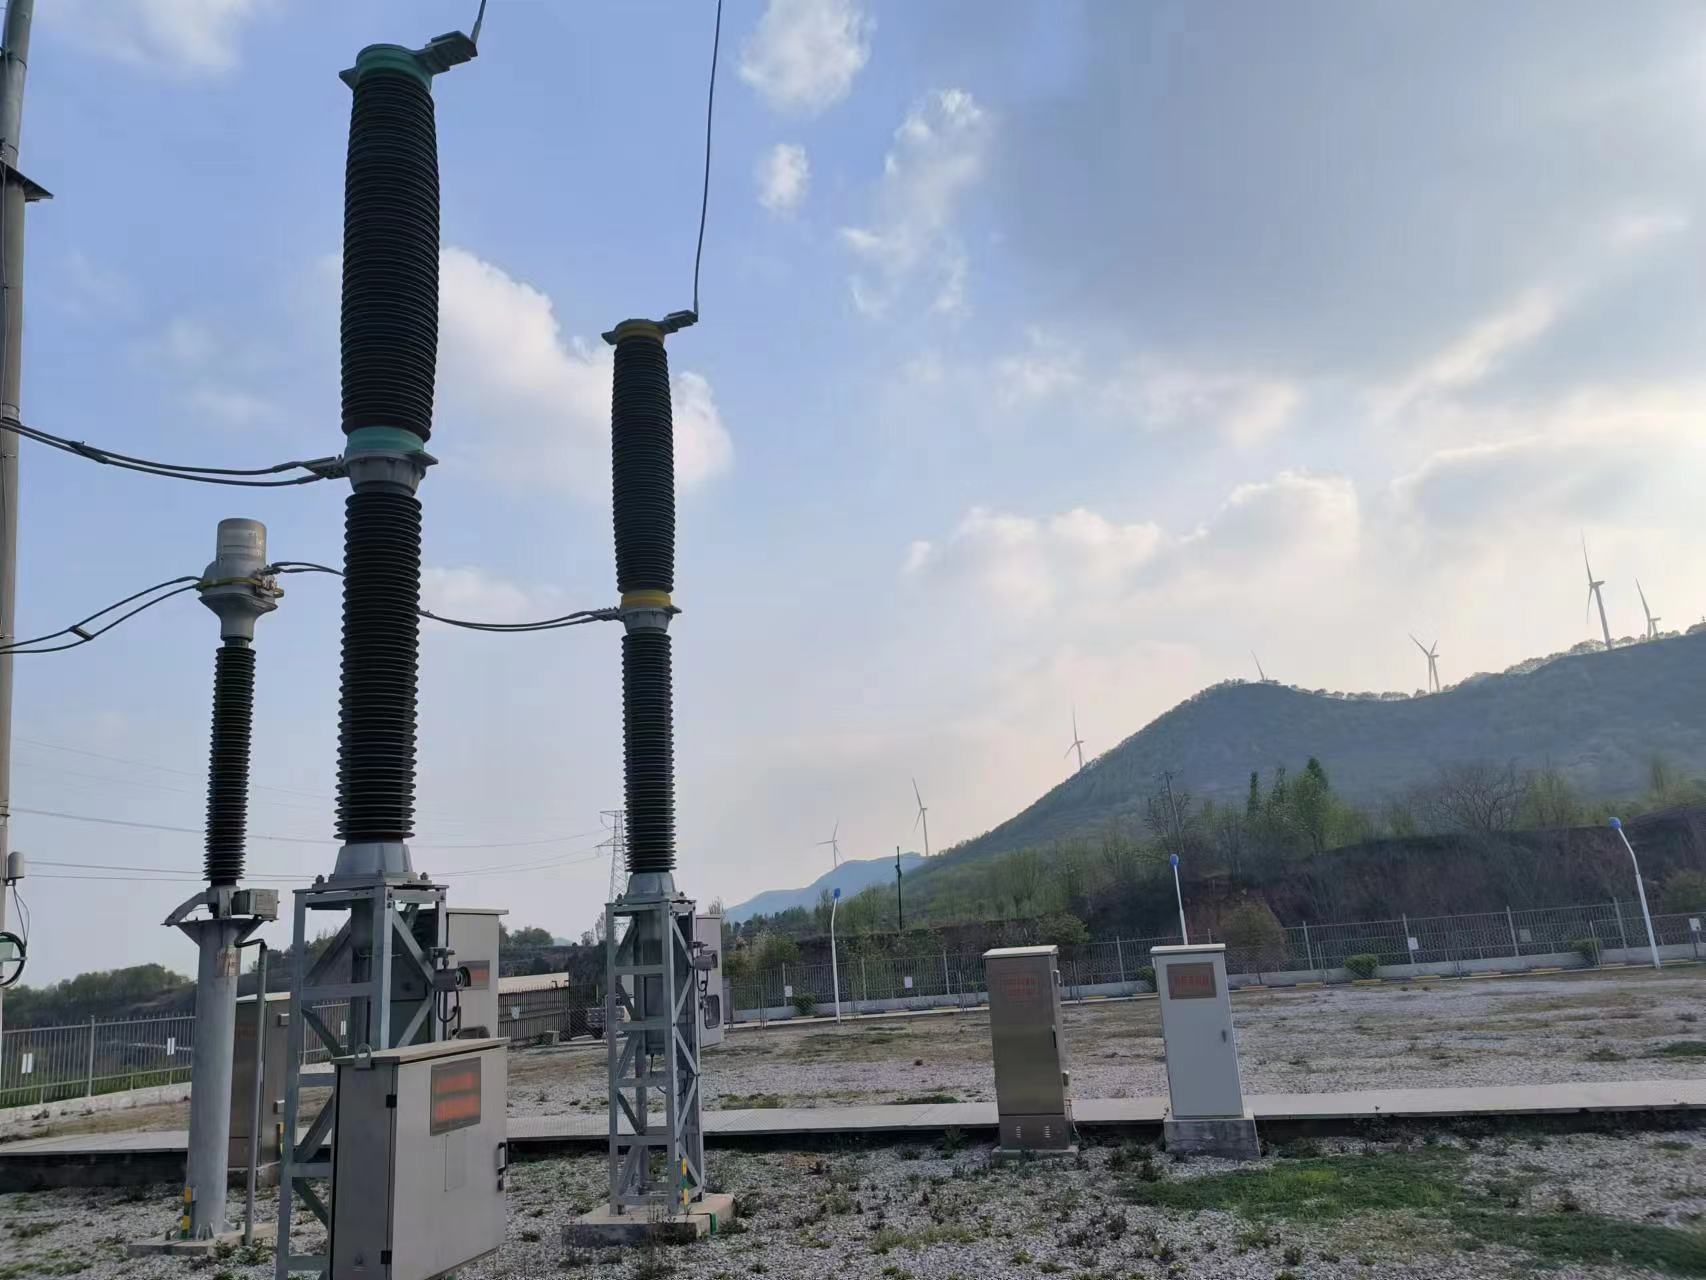Circuit-breaker: (313, 27, 481, 887), (587, 303, 708, 906)
